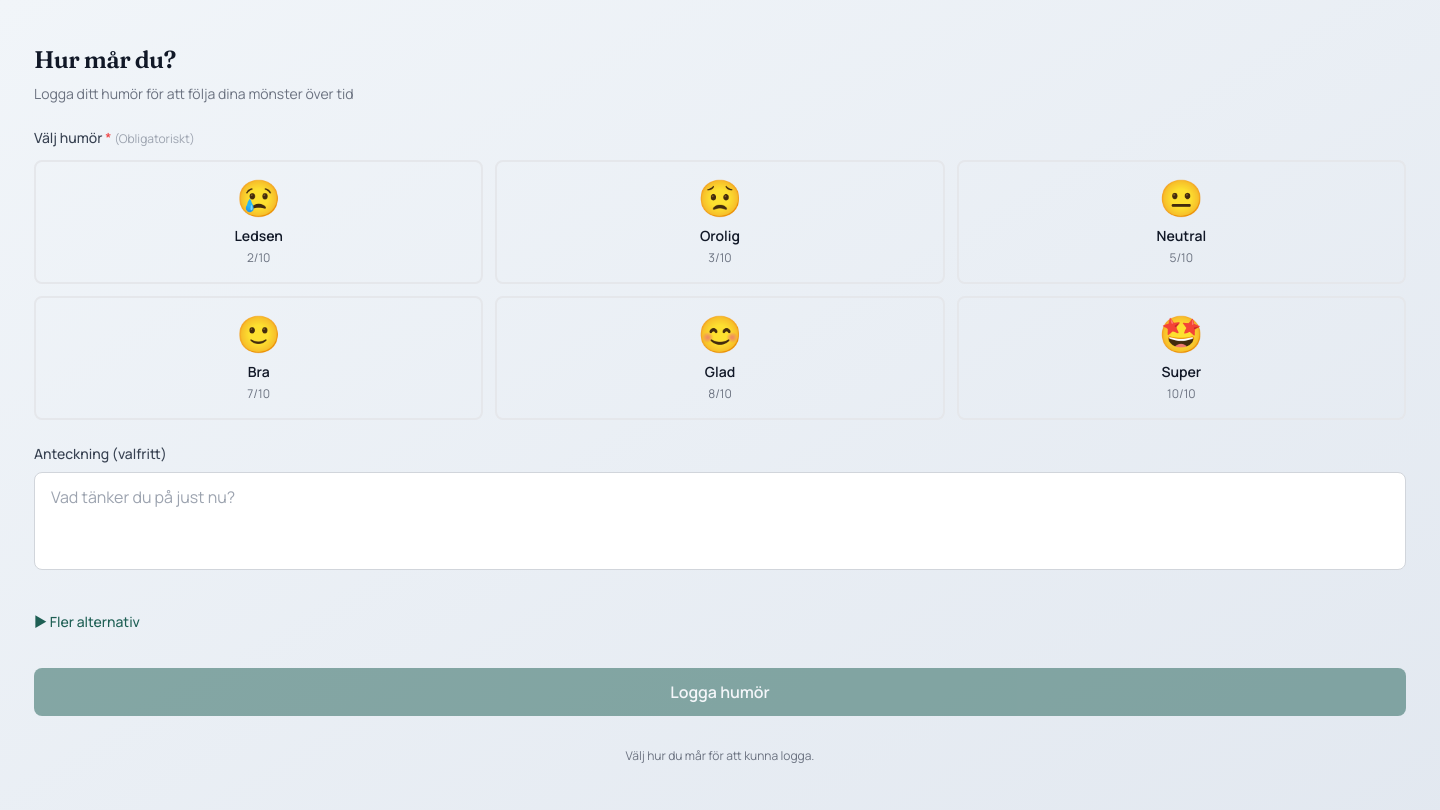
Scenario: SuperMoodLogger › shows reflection prompt for low mood score
What coordinates should you click on to do the following:
click the text "Ledsen"
I would click on:
 (259, 236)
Its box is [234,226,283,245].
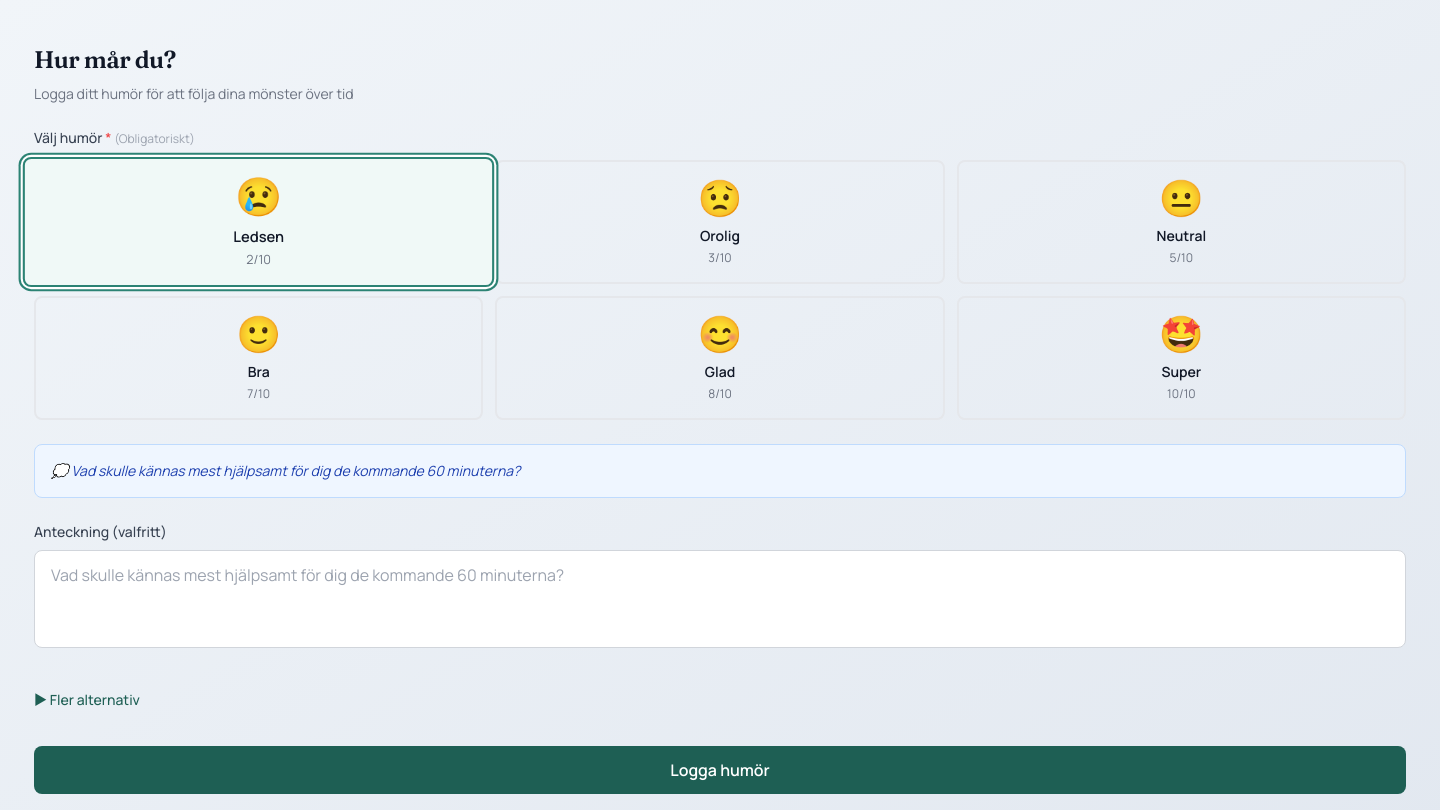
Expected: the text "Vad skulle kännas mest hjälpsamt" is shown, [71,461,520,480]
